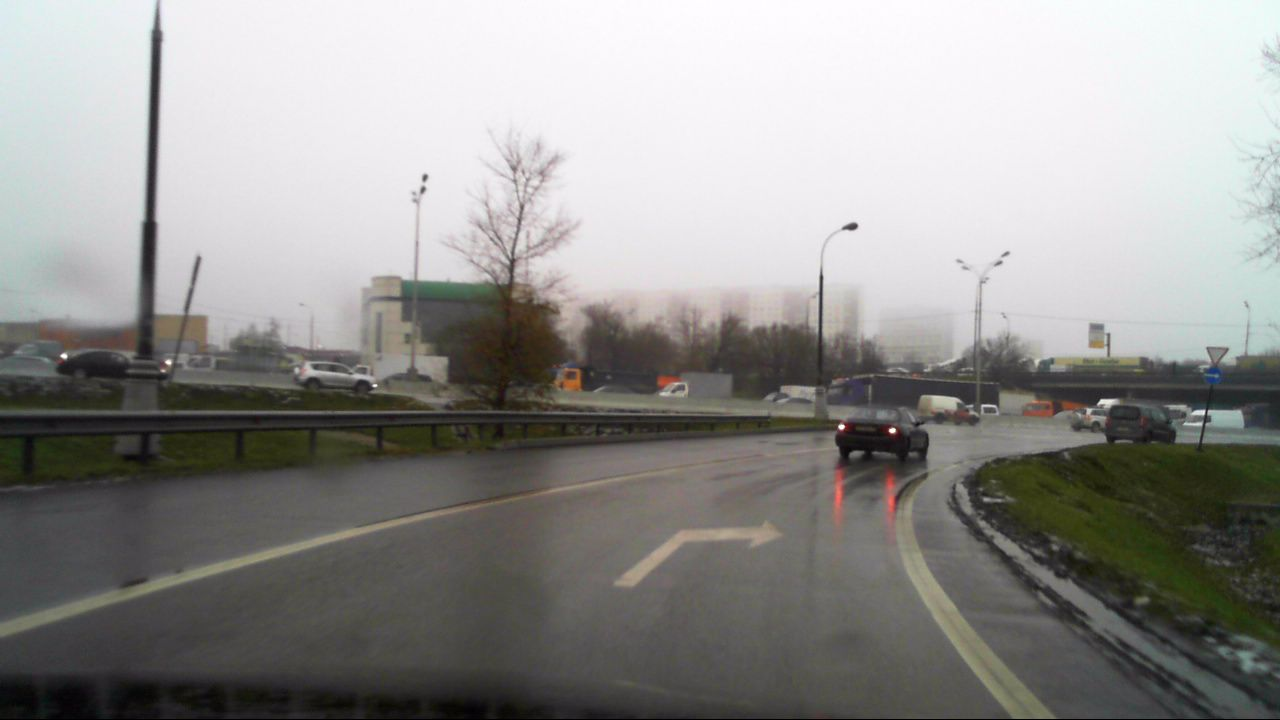Turn Right: (1204, 367, 1223, 386)
